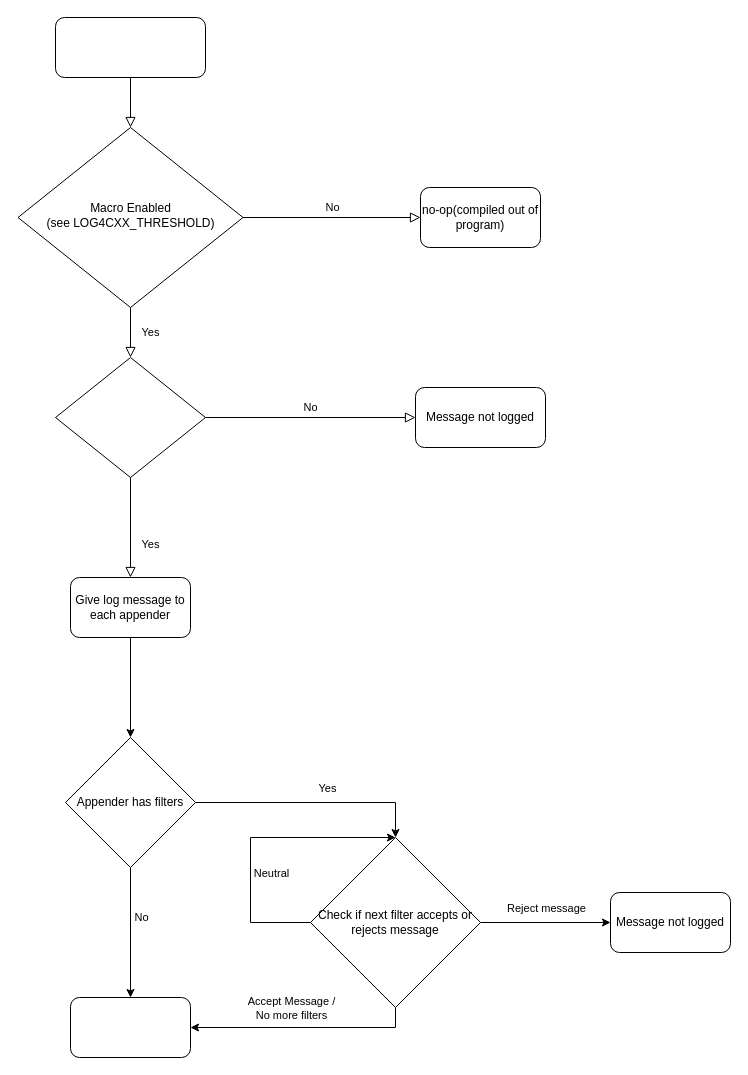
Image size: 748x1075. Some labels were removed from this diagram. Here are the shapes that lost their labels. From the top down, the box of each, then its label:
(54, 16, 206, 78): Logging macro(e.g. LOG4CXX_DEBUG)
(54, 356, 206, 478): Level enabled
(70, 996, 190, 1058): Message logged
